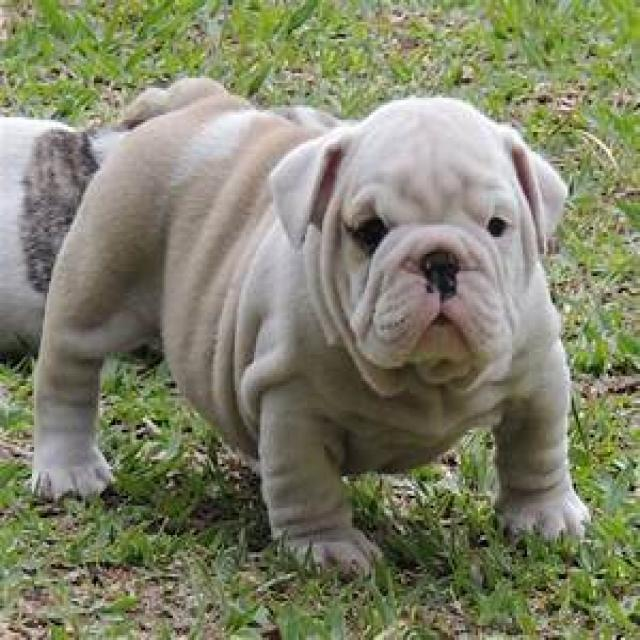animal: (28, 102, 586, 571)
